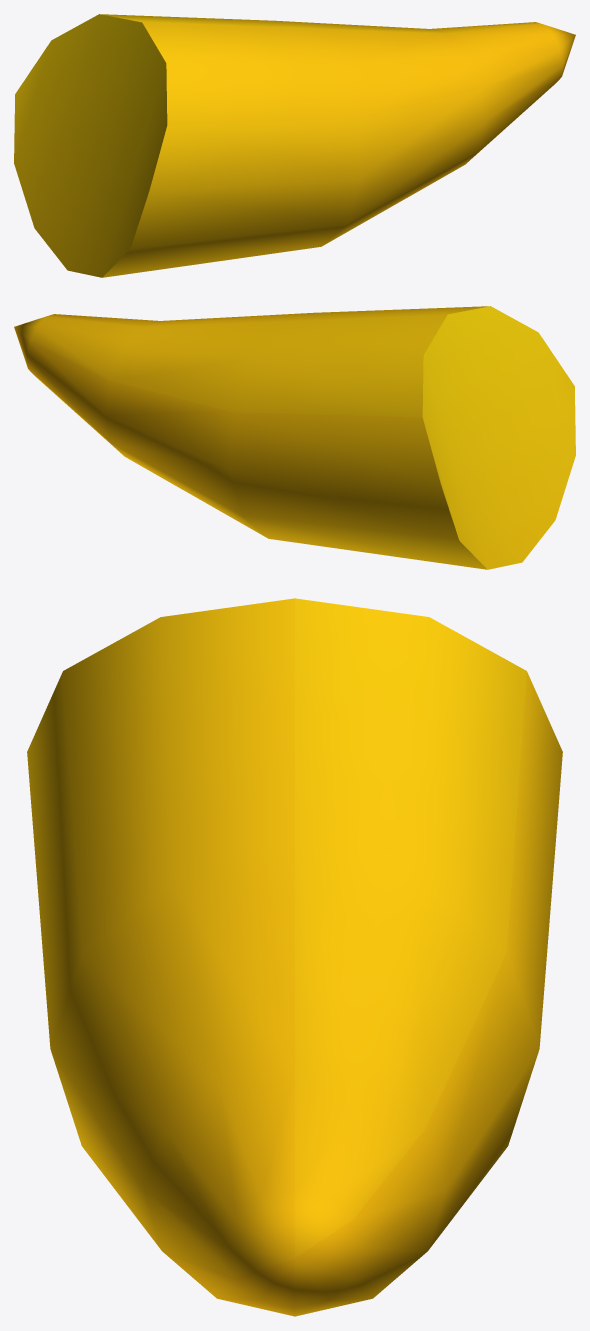
File: Banana_Slice_02.glb
3 renders of one model, top to bottom at view 1: azimuth 30°, elevation 25°; view 2: azimuth 150°, elevation 25°; view 3: azimuth 270°, elevation 25°, orthographic. The views are drawn at different scales.
Parts seen in each view (by area): view 1: Banana_Slice_02; view 2: Banana_Slice_02; view 3: Banana_Slice_02.
Part boxes in pixels (box(x1,y1,x2,y2)): Banana_Slice_02: box(14, 14, 575, 277); Banana_Slice_02: box(14, 306, 575, 569); Banana_Slice_02: box(27, 598, 562, 1316).
Size of the model in its own units: 0.2676 by 0.1267 by 0.1221.
Materials: 1 (1 with a texture image).
